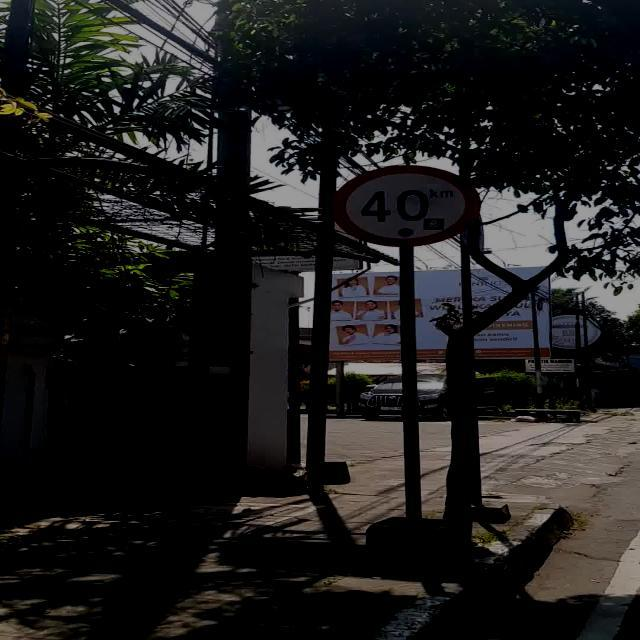Kecepatan Maks. 40 km: (331, 165, 482, 248)
